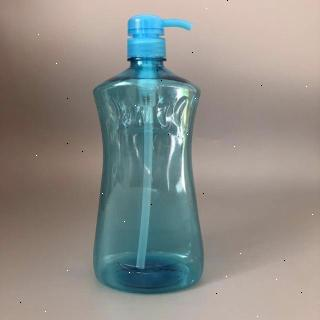Plastic-bottle: (89, 12, 214, 298)
